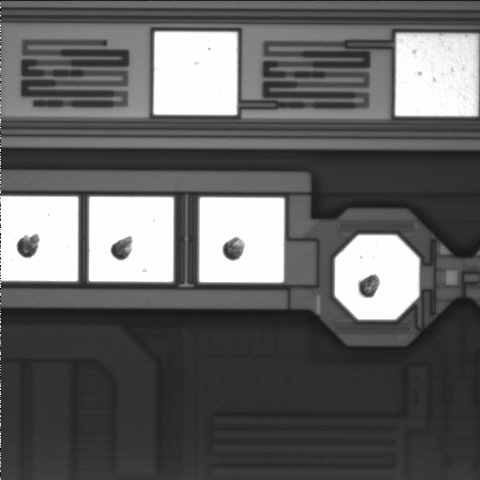pad: (199, 197, 284, 283), (89, 197, 174, 282), (335, 235, 419, 320), (154, 32, 237, 115), (395, 34, 478, 116)
